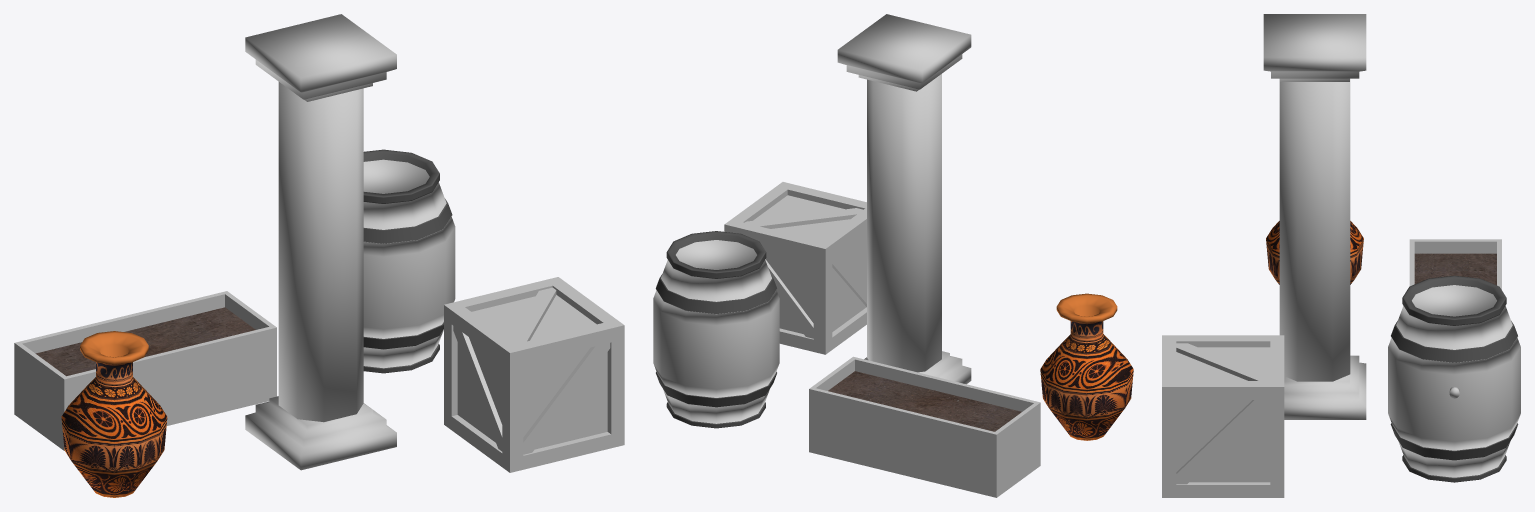
The model's file is Props.fbx.
3 views of the same model, side by side, from view 1: azimuth 30°, elevation 25°; view 2: azimuth 150°, elevation 25°; view 3: azimuth 270°, elevation 25° (orthographic). The views are drawn at different scales.
Visible parts, largest first — view 1: Column, Cube.001, Cube, Cylinder.001, Cylinder; view 2: Column, Cube, Cylinder.001, Cube.001, Cylinder; view 3: Column, Cylinder.001, Cube.001, Cube, Cylinder.
Part boxes in pixels (x1,y1,x2,y2): Column: [245, 14, 396, 470]; Cube.001: [444, 277, 624, 472]; Cube: [14, 291, 276, 450]; Cylinder.001: [363, 149, 455, 373]; Cylinder: [61, 331, 167, 497]; Column: [837, 14, 971, 384]; Cube: [809, 356, 1040, 497]; Cylinder.001: [653, 231, 779, 428]; Cube.001: [724, 182, 866, 354]; Cylinder: [1040, 293, 1133, 440]; Column: [1263, 14, 1366, 419]; Cylinder.001: [1388, 275, 1520, 482]; Cube.001: [1162, 335, 1284, 497]; Cube: [1409, 239, 1501, 289]; Cylinder: [1266, 221, 1363, 284].
Bounding box in the file's own units: 508 × 402 × 361.
